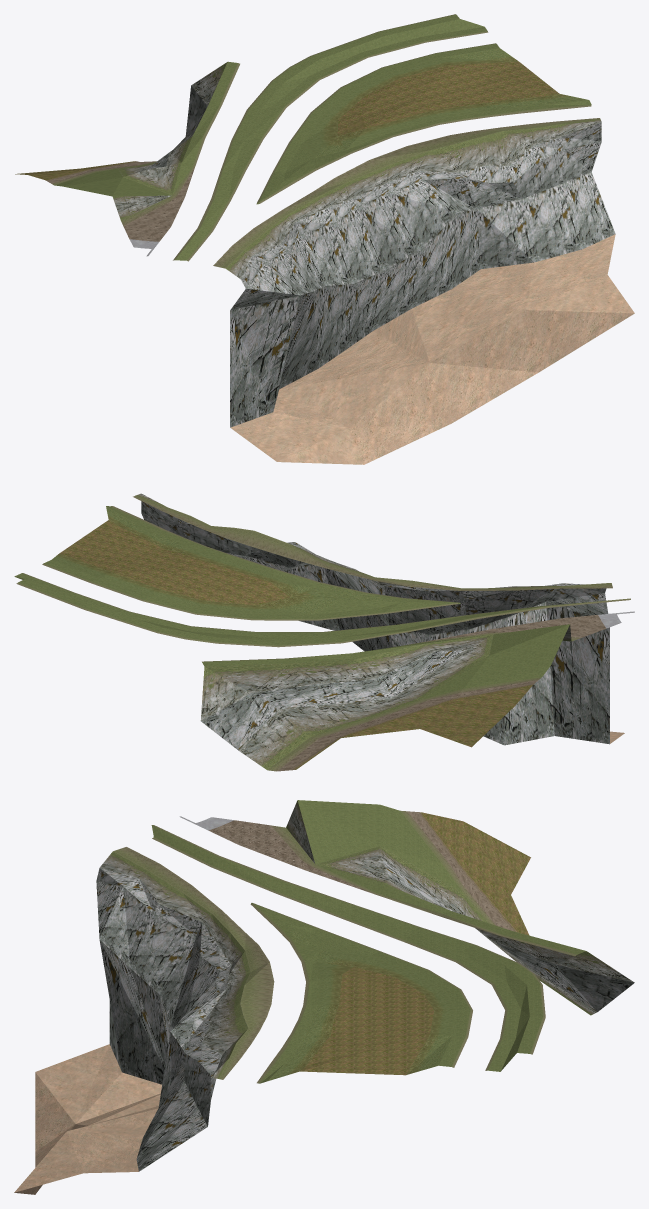
File: cs_landbit_68.obj
3 renders of one model, top to bottom at view 1: azimuth 30°, elevation 25°; view 2: azimuth 150°, elevation 25°; view 3: azimuth 270°, elevation 25°, orthographic. The views are drawn at different scales.
Visible parts, largest first — view 1: cs_landbit_68; view 2: cs_landbit_68; view 3: cs_landbit_68.
Part boxes in pixels (x1,y1,x2,y2): cs_landbit_68: [15, 14, 634, 464]; cs_landbit_68: [14, 493, 634, 771]; cs_landbit_68: [14, 800, 634, 1194].
Size of the model in its own units: 252 by 114 by 235.
10 materials, 10 textured.
